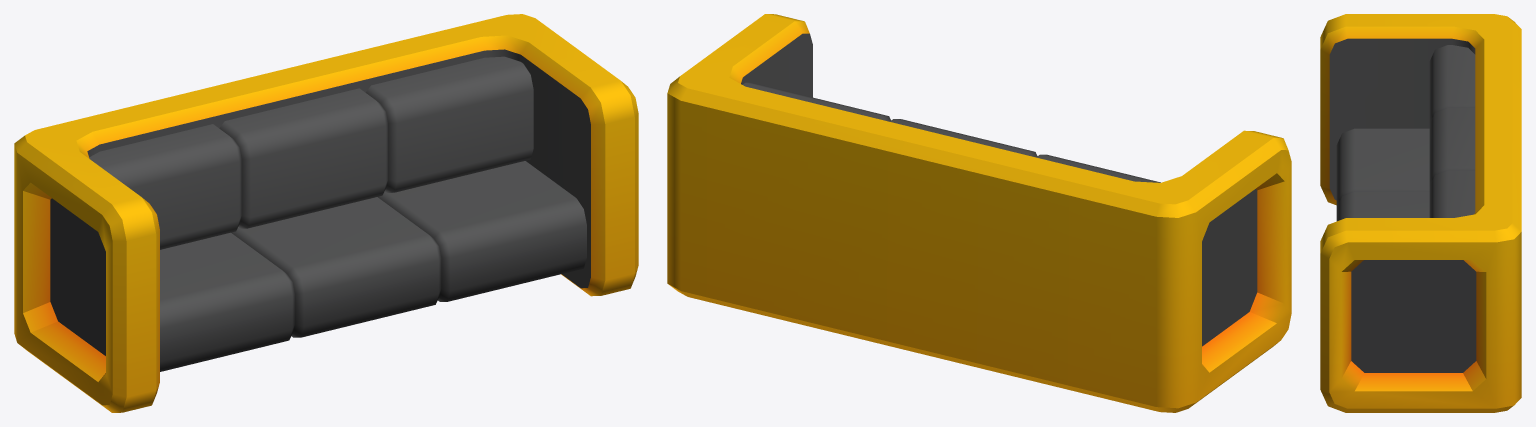
The model's file is Sofa_009.glb.
3 views of the same model, side by side, from view 1: azimuth 30°, elevation 25°; view 2: azimuth 150°, elevation 25°; view 3: azimuth 270°, elevation 25° (orthographic). The views are drawn at different scales.
Parts seen in each view (by area): view 1: Sofa_009; view 2: Sofa_009; view 3: Sofa_009.
Part boxes in pixels (<box>): Sofa_009: <box>14,14,638,412</box>; Sofa_009: <box>667,14,1291,412</box>; Sofa_009: <box>1320,14,1521,412</box>.
Size of the model in its own units: 2.25 by 0.8546 by 0.8546.
Materials: 1 (1 with a texture image).
